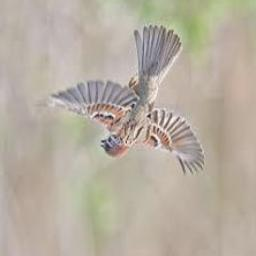Sparrow: (39, 25, 205, 177)
